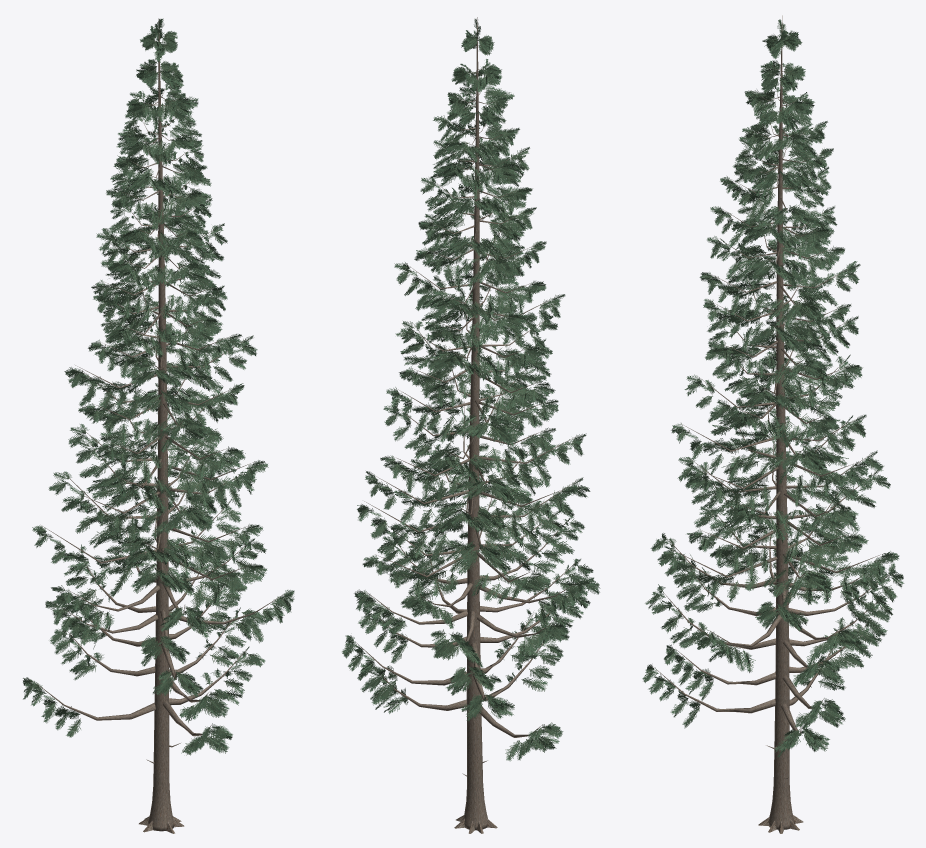
The model's file is SS_Defect_CoarseBranch_Mature_01_LOD1.fbx.
3 views of the same model, side by side, from view 1: azimuth 30°, elevation 25°; view 2: azimuth 150°, elevation 25°; view 3: azimuth 270°, elevation 25° (orthographic).
Visible parts, largest first — view 1: SS_Defect_CoarseBranch_Mature_01_LOD1_Foliage, SS_Defect_CoarseBranch_Mature_01_LOD1_Branches, SS_Defect_CoarseBranch_Mature_01_LOD1_Trunk; view 2: SS_Defect_CoarseBranch_Mature_01_LOD1_Foliage, SS_Defect_CoarseBranch_Mature_01_LOD1_Branches, SS_Defect_CoarseBranch_Mature_01_LOD1_Trunk; view 3: SS_Defect_CoarseBranch_Mature_01_LOD1_Foliage, SS_Defect_CoarseBranch_Mature_01_LOD1_Branches, SS_Defect_CoarseBranch_Mature_01_LOD1_Trunk.
Part boxes in pixels (bbox=[...]): SS_Defect_CoarseBranch_Mature_01_LOD1_Foliage: bbox=[23, 18, 294, 755]; SS_Defect_CoarseBranch_Mature_01_LOD1_Branches: bbox=[33, 33, 282, 763]; SS_Defect_CoarseBranch_Mature_01_LOD1_Trunk: bbox=[139, 18, 184, 833]; SS_Defect_CoarseBranch_Mature_01_LOD1_Foliage: bbox=[342, 19, 600, 761]; SS_Defect_CoarseBranch_Mature_01_LOD1_Branches: bbox=[356, 65, 577, 776]; SS_Defect_CoarseBranch_Mature_01_LOD1_Trunk: bbox=[454, 17, 497, 833]; SS_Defect_CoarseBranch_Mature_01_LOD1_Foliage: bbox=[642, 19, 904, 757]; SS_Defect_CoarseBranch_Mature_01_LOD1_Branches: bbox=[654, 33, 887, 778]; SS_Defect_CoarseBranch_Mature_01_LOD1_Trunk: bbox=[758, 15, 803, 833].
Bounding box in the file's own units: 769 × 2500 × 777.
Materials: 2 (2 with a texture image).
